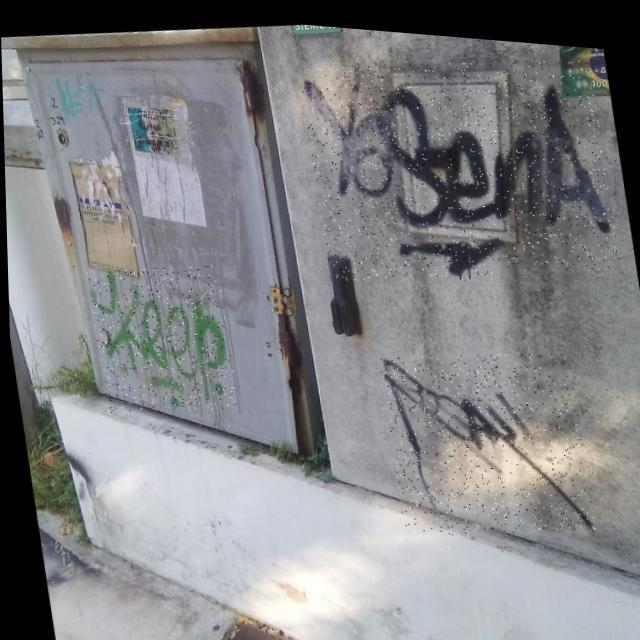-: (297, 28, 620, 293), (376, 328, 592, 542), (84, 254, 236, 421)
